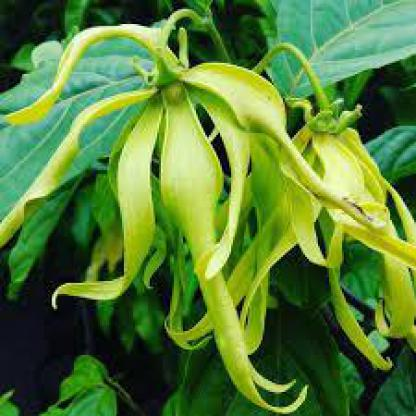Kenanga: (73, 51, 404, 319)
